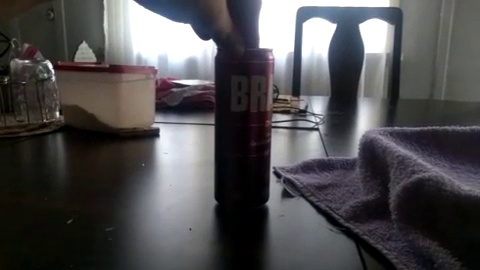duplo_malte: (187, 26, 294, 243)
